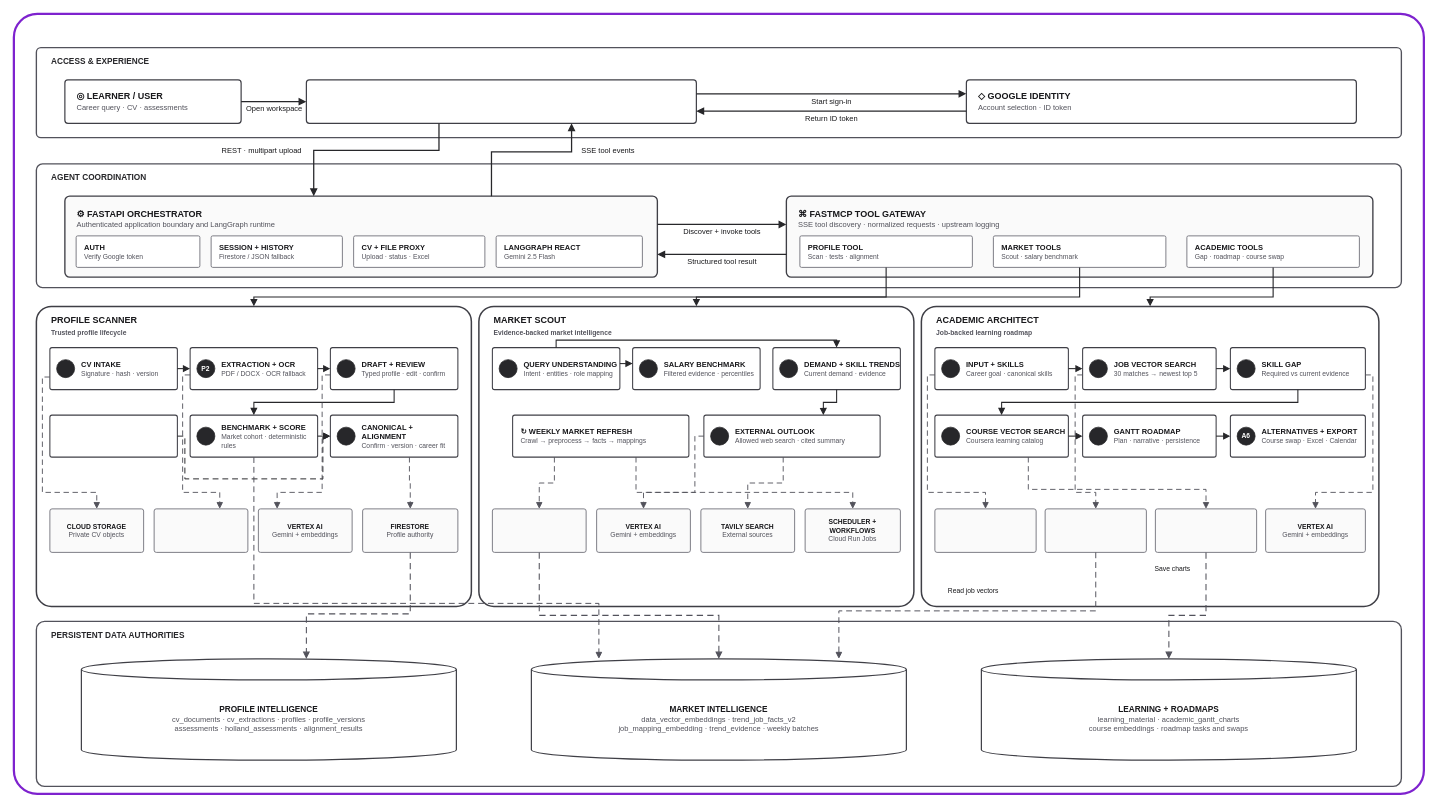
This 1438x808 diagram has some shape labels left out. The shapes that lost their labels are listed below. From the top down, each one's centre as x and y in pixels, then its label:
(501,101): ▣ REACT / VITE WORKSPACE Chat · CV upload · profile · roadmap widgets
(65,368): P1
(345,368): P3
(507,368): M1
(648,368): 2A
(788,368): 2B
(950,368): A1
(1098,368): A2
(1245,368): A3
(113,435): ◇ ASSESSMENTS Holland · Multiple Intelligences
(205,435): P4
(345,435): P5
(719,435): 3B
(950,435): A4
(1098,435): A5
(200,530): DOCUMENT AI OCR processor
(539,530): FIRESTORE Market collections
(985,530): PROFILE STORE Canonical skills
(1095,530): JOB VECTORS Market evidence
(1206,530): LEARNING CATALOG Courses + embeddings
